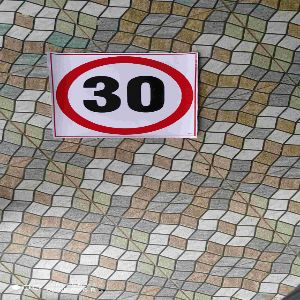speedlimit30: (49, 52, 196, 136)
